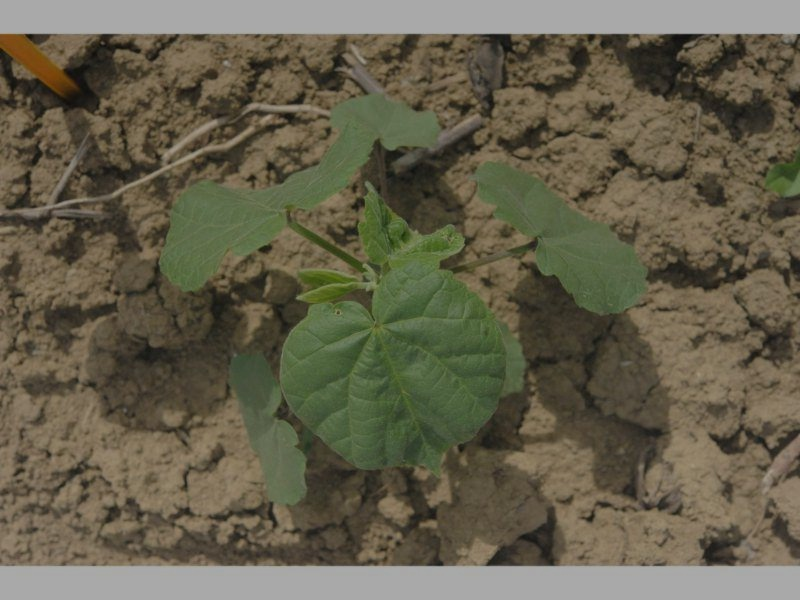velvet: (159, 92, 650, 505)
